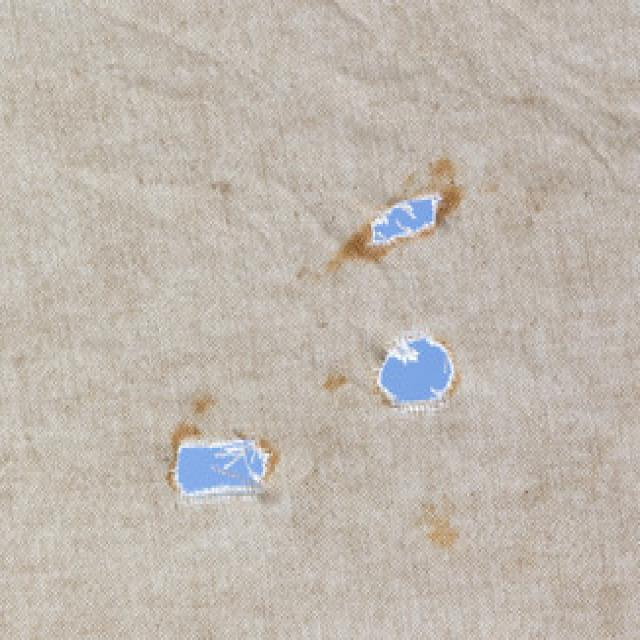Hole: (327, 158, 464, 271), (168, 424, 279, 505), (378, 336, 456, 411)
